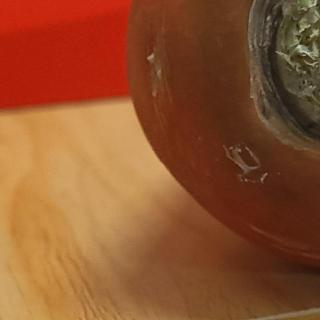carrot: (122, 0, 320, 278)
